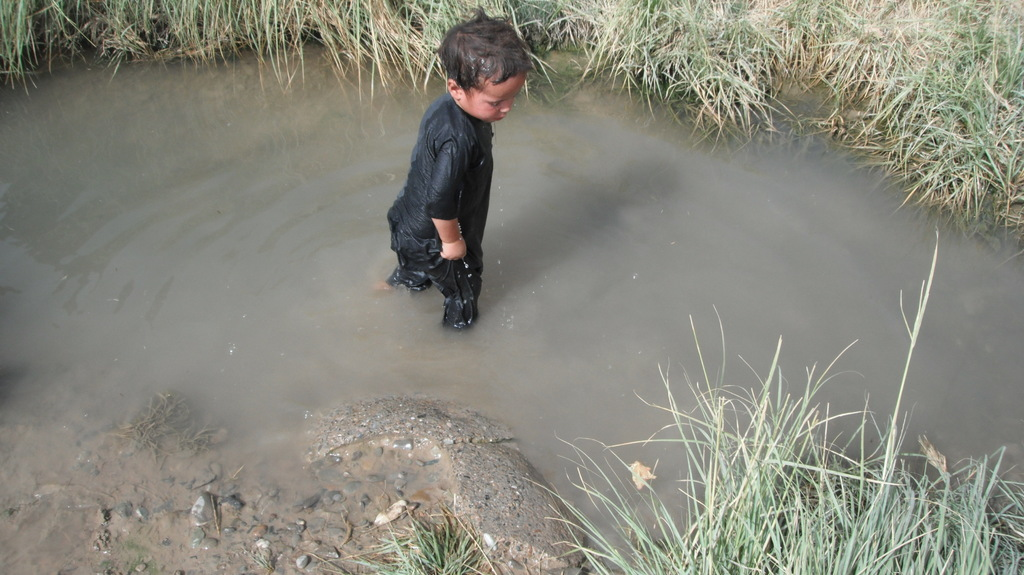face: (461, 72, 528, 121)
